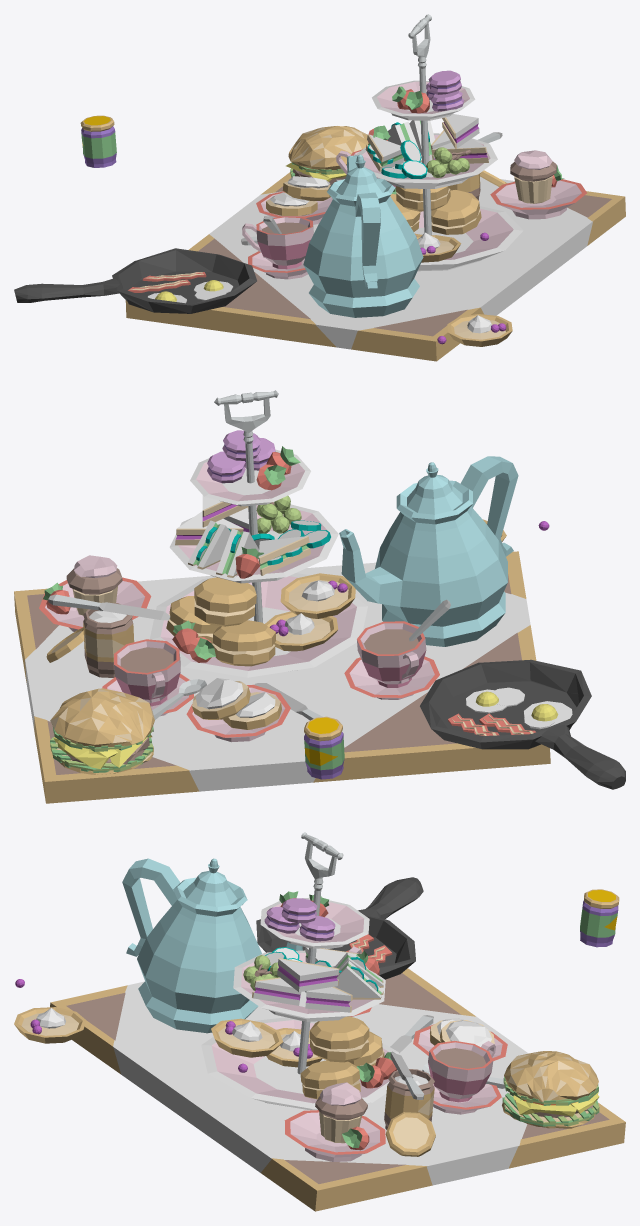
The model's file is jam.fbx.
3 renders of one model, top to bottom at view 1: azimuth 30°, elevation 25°; view 2: azimuth 150°, elevation 25°; view 3: azimuth 270°, elevation 25°, orthographic. The views are drawn at different scales.
Parts seen in each view (by area): view 1: model4:mesh879786813; view 2: model4:mesh879786813; view 3: model4:mesh879786813.
Part boxes in pixels (left/top/right/bottom): model4:mesh879786813: left=14, top=14, right=625, bottom=361; model4:mesh879786813: left=14, top=390, right=625, bottom=803; model4:mesh879786813: left=14, top=832, right=625, bottom=1211.
Size of the model in its own units: 48.71 by 21.35 by 41.77.
